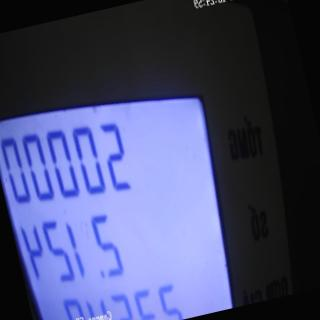screen: (0, 65, 255, 320)
